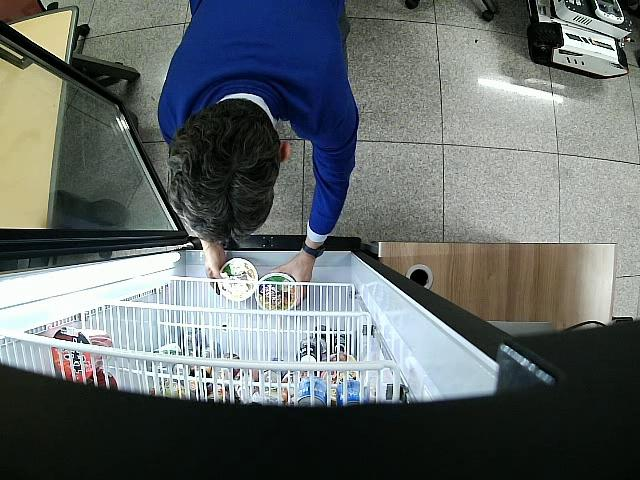00_hand: (269, 255, 312, 306), (205, 244, 227, 295)
09_yukGaeJang: (217, 258, 259, 301), (254, 273, 297, 311)
